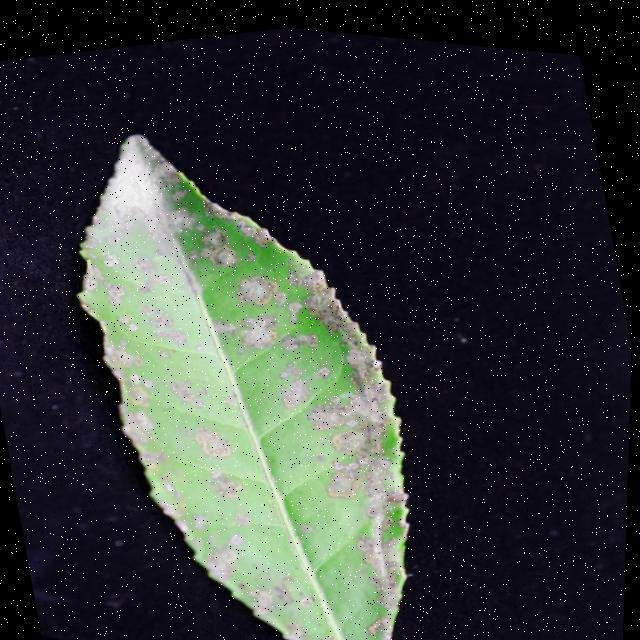Tea red rust: (73, 140, 427, 640)
